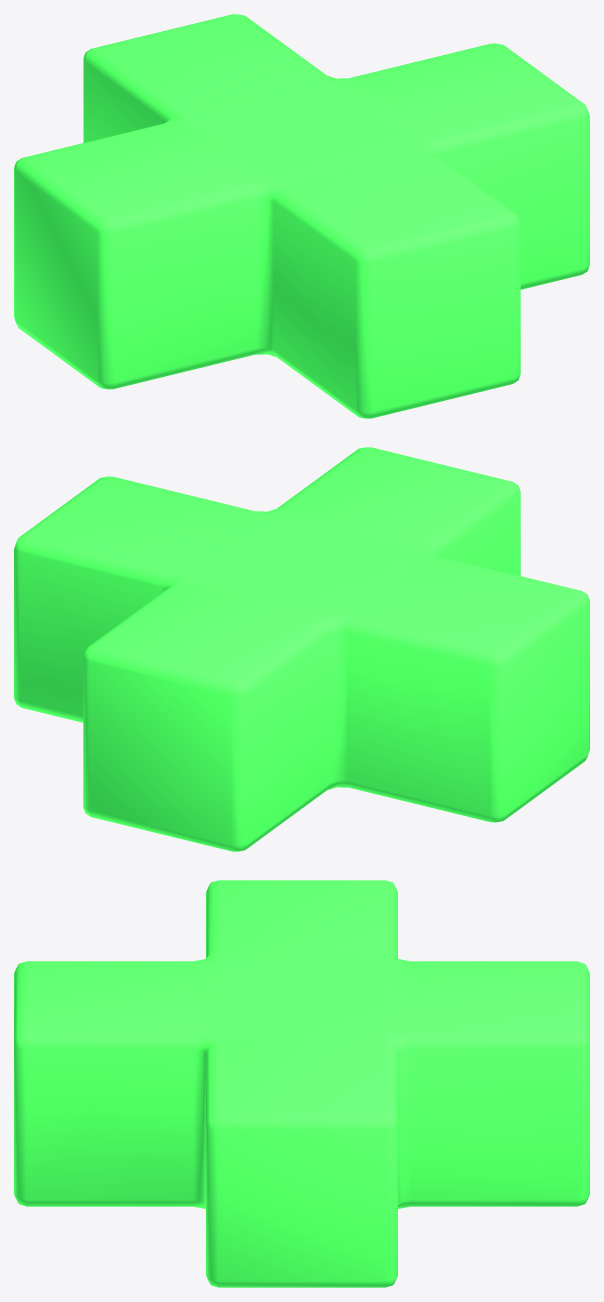
Rendered from pickup_health.glb.
3 views of the same model, one above another, from view 1: azimuth 30°, elevation 25°; view 2: azimuth 150°, elevation 25°; view 3: azimuth 270°, elevation 25° (orthographic).
Visible parts, largest first — view 1: pickup_health; view 2: pickup_health; view 3: pickup_health.
Part boxes in pixels (x1,y1,x2,y2): pickup_health: [14, 14, 589, 418]; pickup_health: [14, 447, 589, 851]; pickup_health: [14, 880, 589, 1287].
Bounding box in the file's own units: 1.8 × 0.6 × 1.8.
